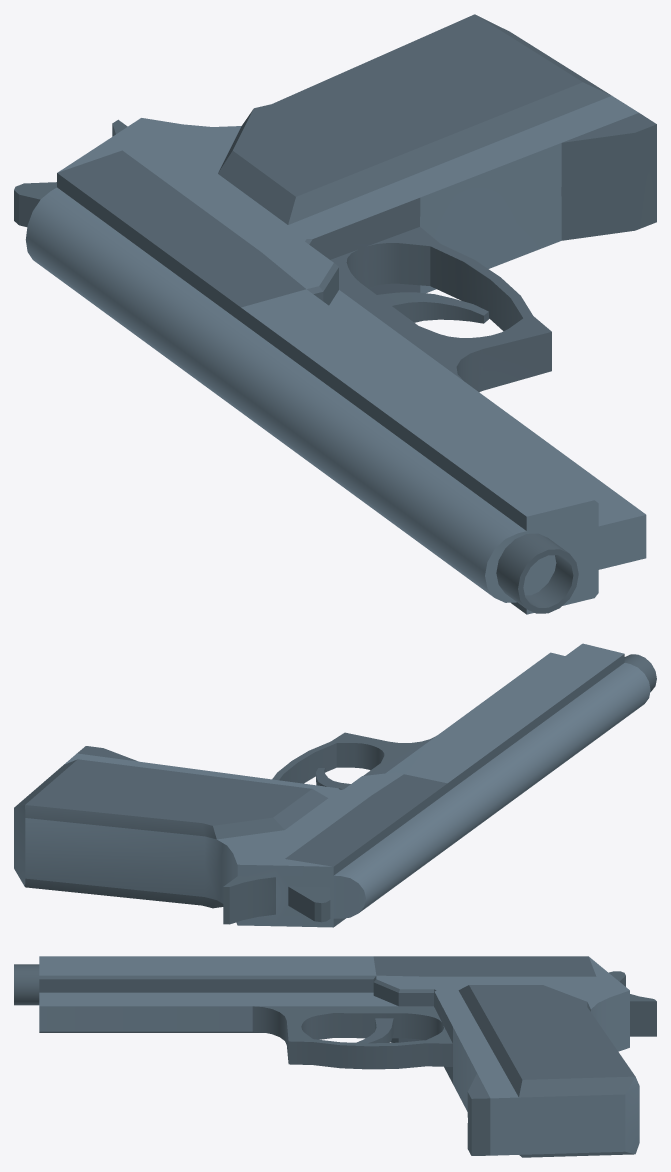
Rendered from pistol.fbx.
3 renders of one model, top to bottom at view 1: azimuth 30°, elevation 25°; view 2: azimuth 150°, elevation 25°; view 3: azimuth 270°, elevation 25°, orthographic. The views are drawn at different scales.
Visible parts, largest first — view 1: MSR; view 2: MSR; view 3: MSR.
Boxes of the visible parts, x1,y1,x2,y2 form: MSR: (14, 14, 656, 614); MSR: (14, 643, 656, 927); MSR: (14, 956, 656, 1157).
Size of the model in its own units: 97.07 by 22.8 by 171.
